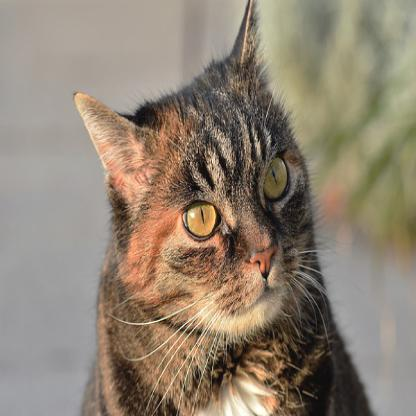cat: (70, 0, 384, 415)
